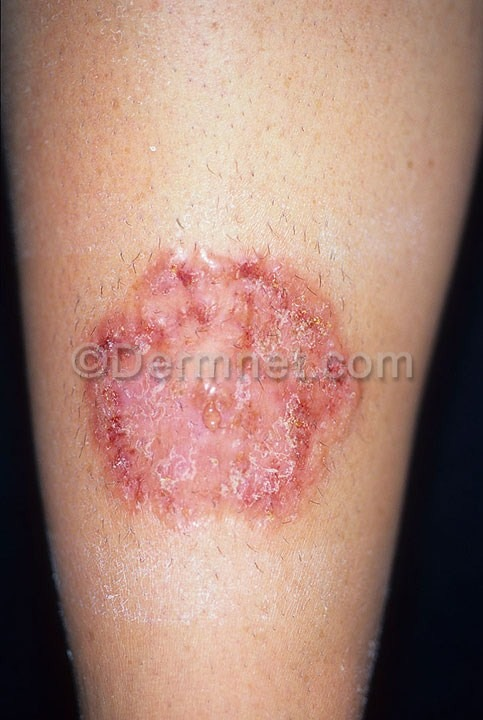Ringworm: (62, 236, 388, 528)
